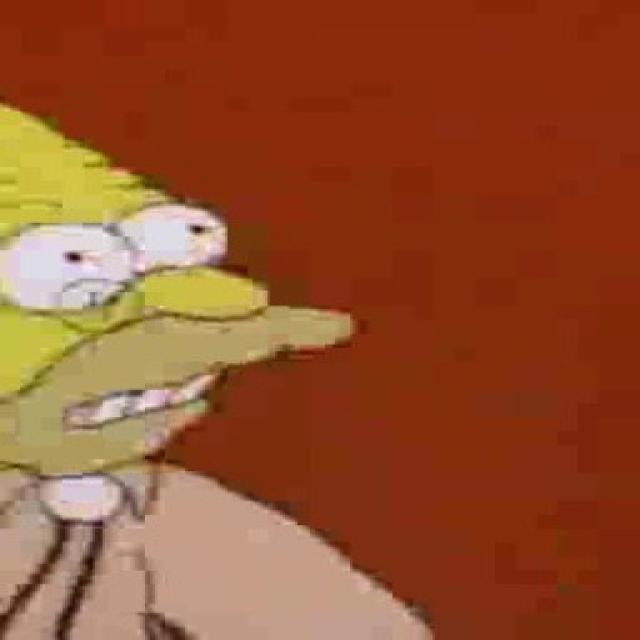Abraham Grampa Simpson: (0, 95, 365, 489)
